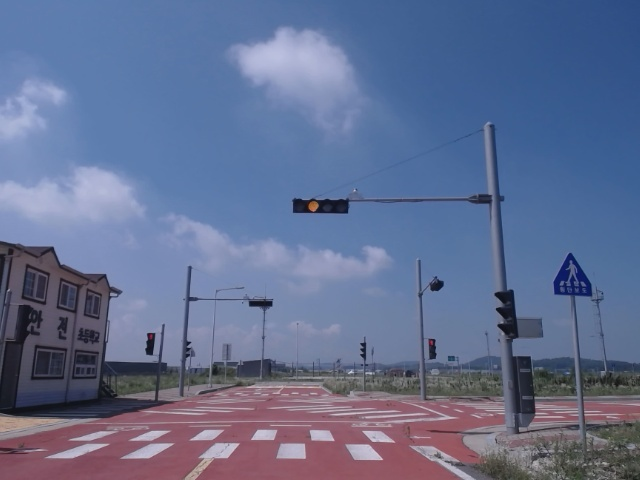orange_4: (293, 197, 350, 215)
